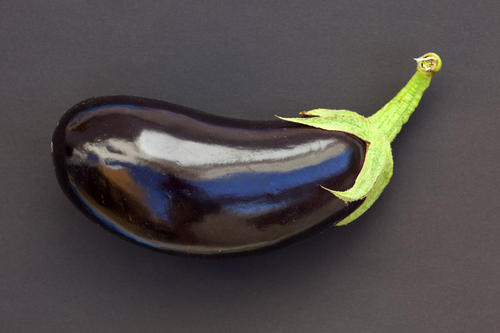fruit_eggplant: (40, 47, 446, 260)
